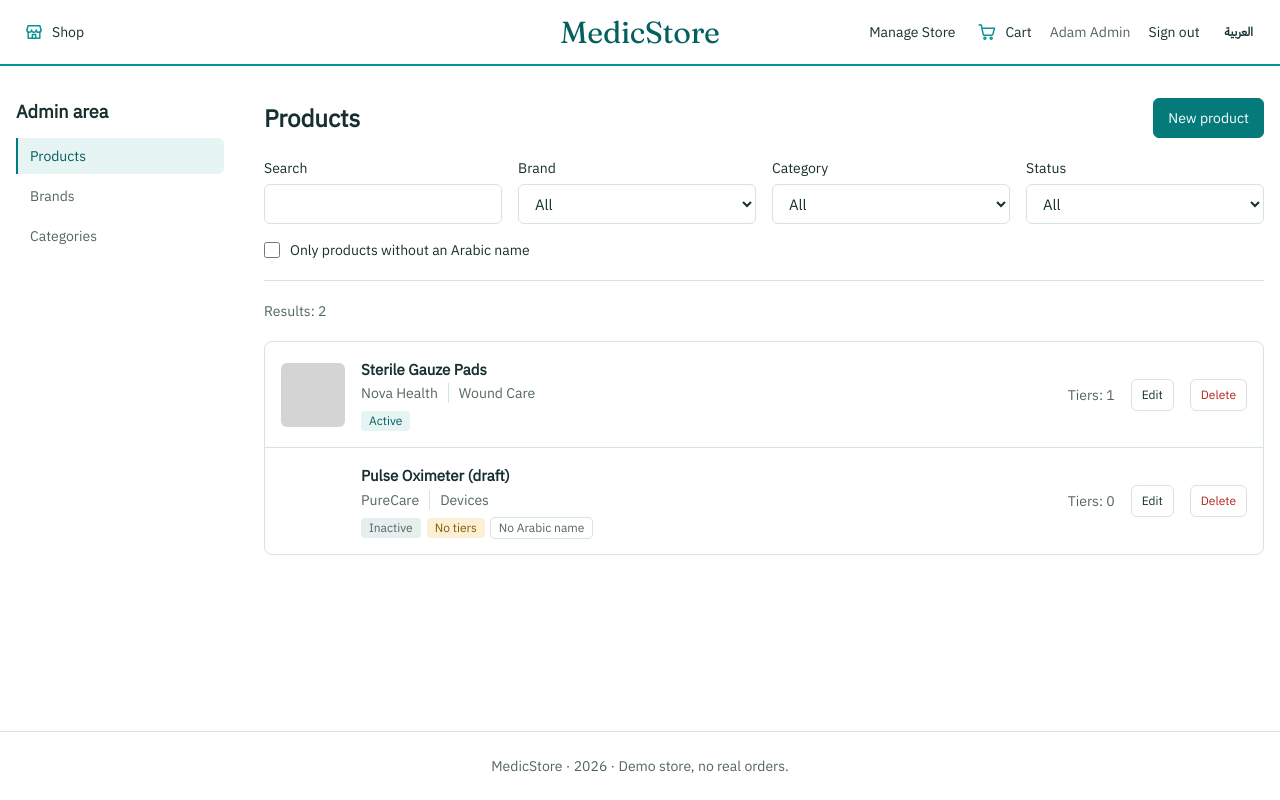
Test case: product names follow the interface language
The width and height of the screenshot is (1280, 800).
Check: the link "Sterile Gauze Pads" is shown, box top-left (361, 360), bottom-right (487, 379)
Click the button "العربية". click: (1239,32)
box: top-left (1214, 16), bottom-right (1264, 48)
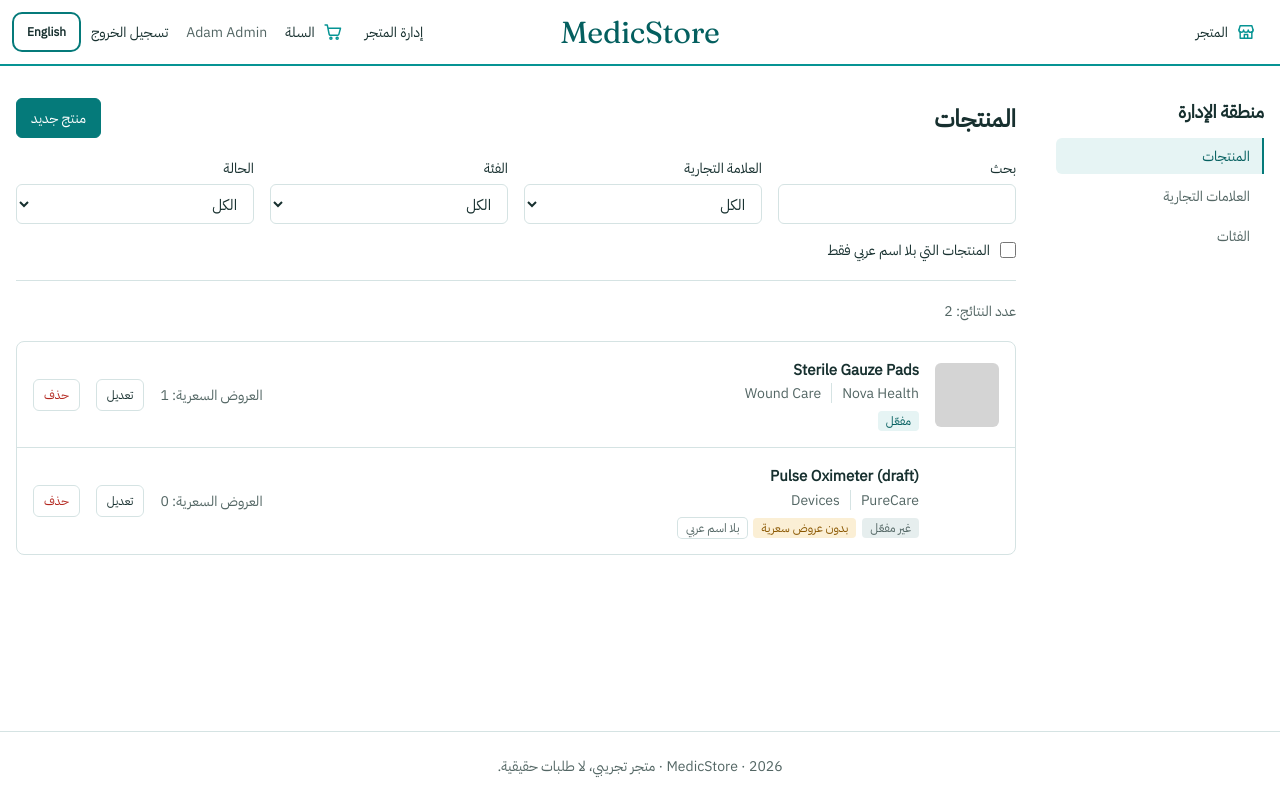
Check: the heading "المنتجات" is shown, box top-left (934, 102), bottom-right (1016, 134)
Check: the text "بلا اسم عربي" is shown, box top-left (678, 518), bottom-right (747, 538)
